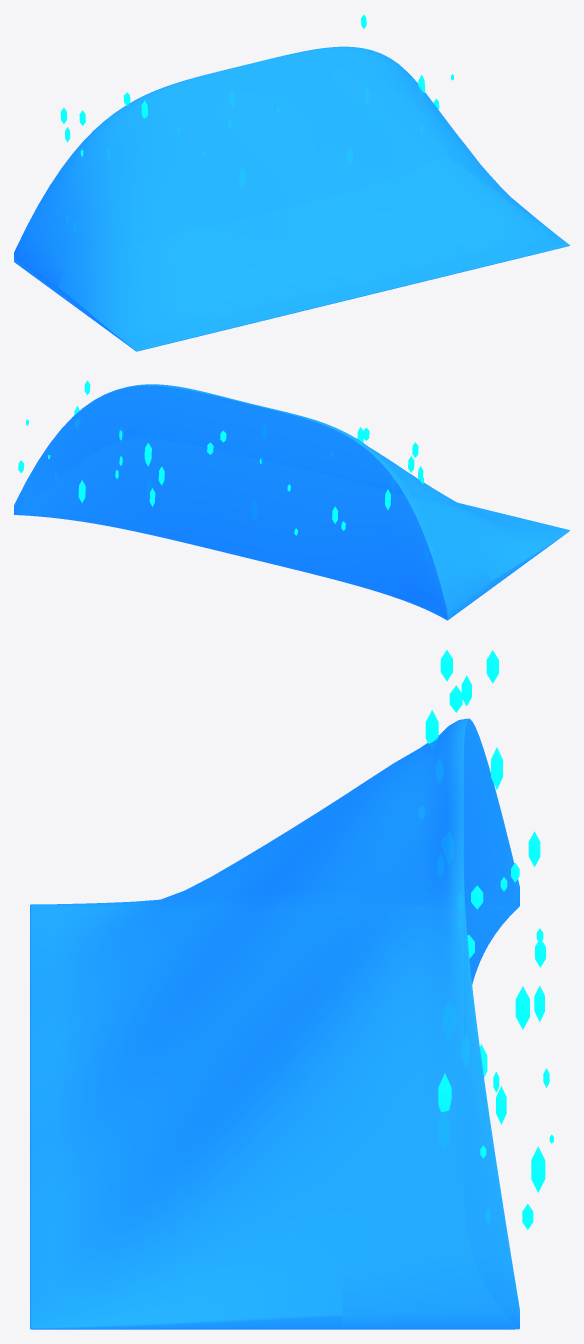
The model's file is SkillZ_GroundWave.fbx.
The picture shows the model from 3 angles, top to bottom: view 1: azimuth 30°, elevation 25°; view 2: azimuth 150°, elevation 25°; view 3: azimuth 270°, elevation 25°; orthographic projection. The views are drawn at different scales.
Visible parts, largest first — view 1: GEO-SkillZ-MainWave, GEO-SkillZ-SprayMesh; view 2: GEO-SkillZ-MainWave, GEO-SkillZ-SprayMesh; view 3: GEO-SkillZ-MainWave, GEO-SkillZ-SprayMesh.
Part boxes in pixels (box(x1,y1,x2,y2)): GEO-SkillZ-MainWave: box(14, 46, 569, 351); GEO-SkillZ-SprayMesh: box(60, 14, 453, 156); GEO-SkillZ-MainWave: box(14, 384, 569, 620); GEO-SkillZ-SprayMesh: box(18, 380, 423, 535); GEO-SkillZ-MainWave: box(30, 718, 519, 1329); GEO-SkillZ-SprayMesh: box(425, 650, 553, 1229).
Size of the model in its own units: 7 by 2.44 by 3.66.
